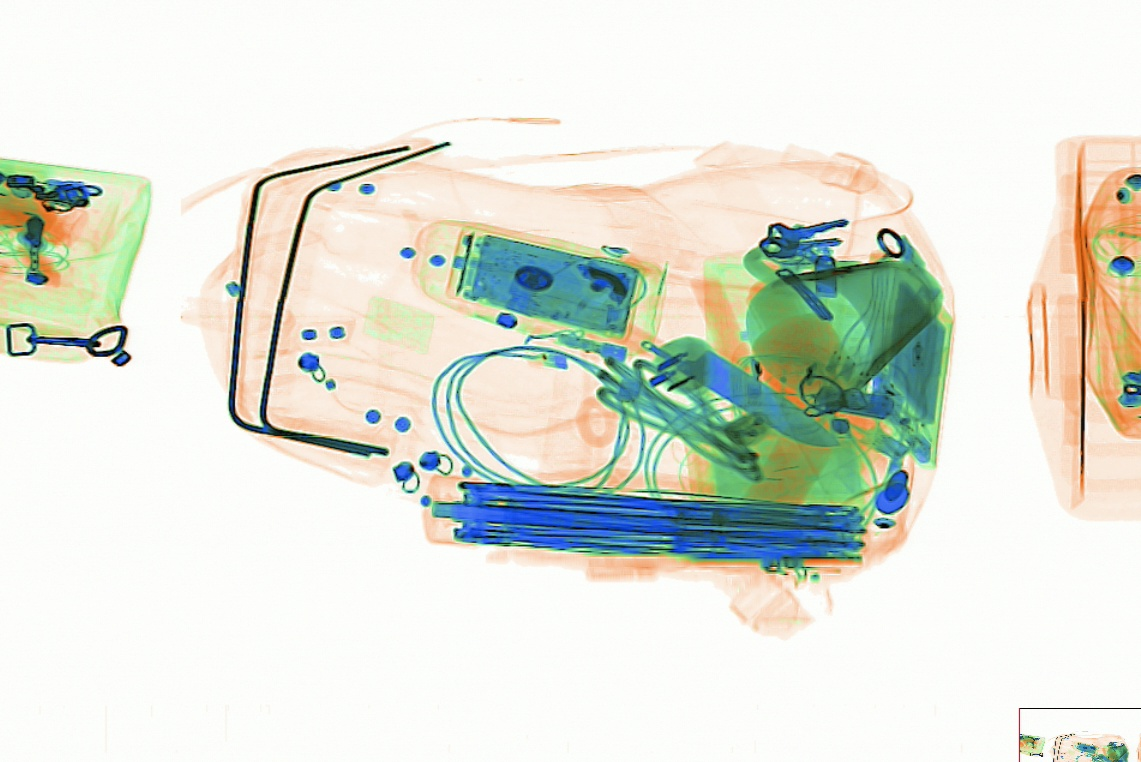knife: (510, 285, 843, 448)
